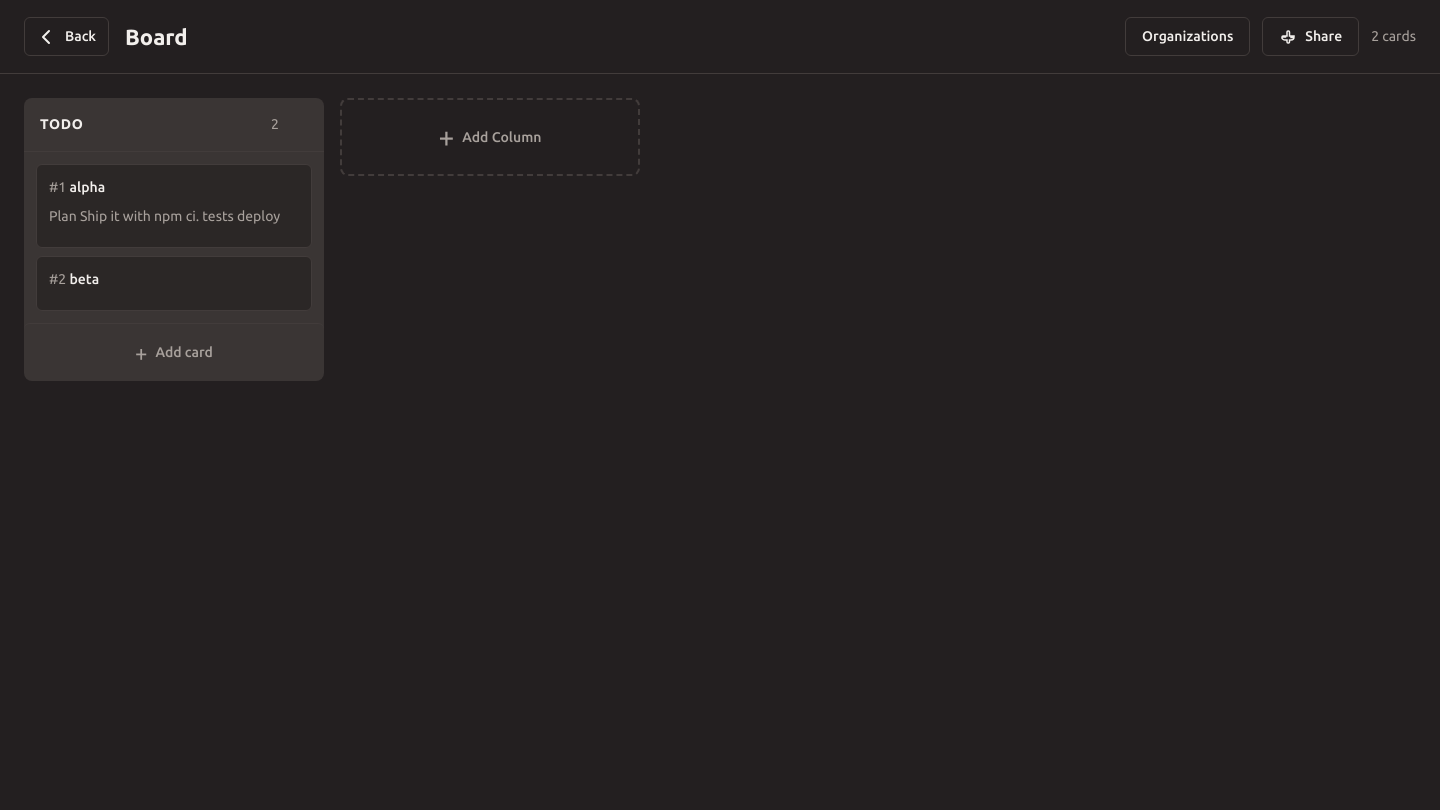
it: an open card › offers to add a description to a card without one
This screenshot has width=1440, height=810.
Click the button "#2 beta" at [58, 279], box [36,256,312,311]
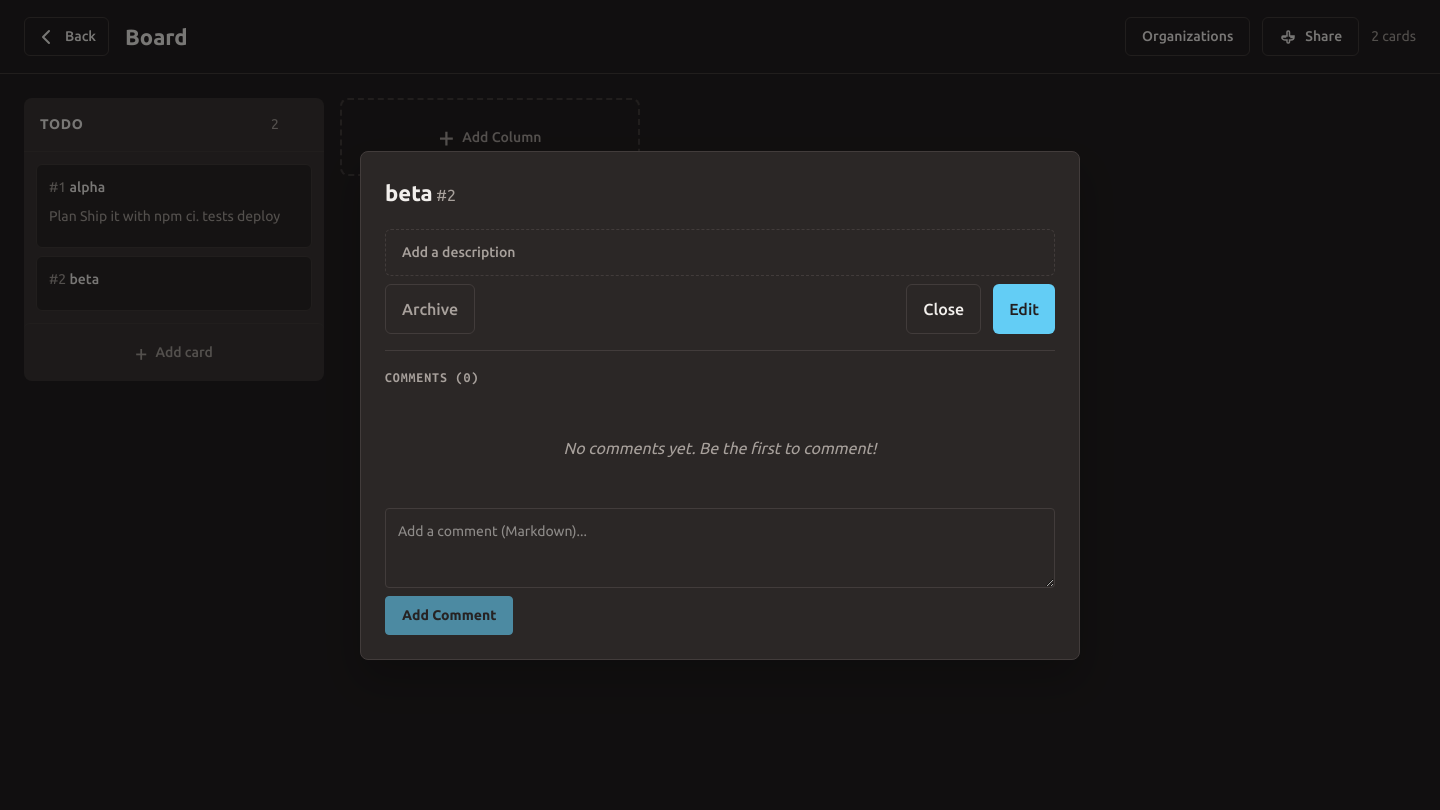
Click the button "Add a description" at [459, 252], box [385,228,1055,276]
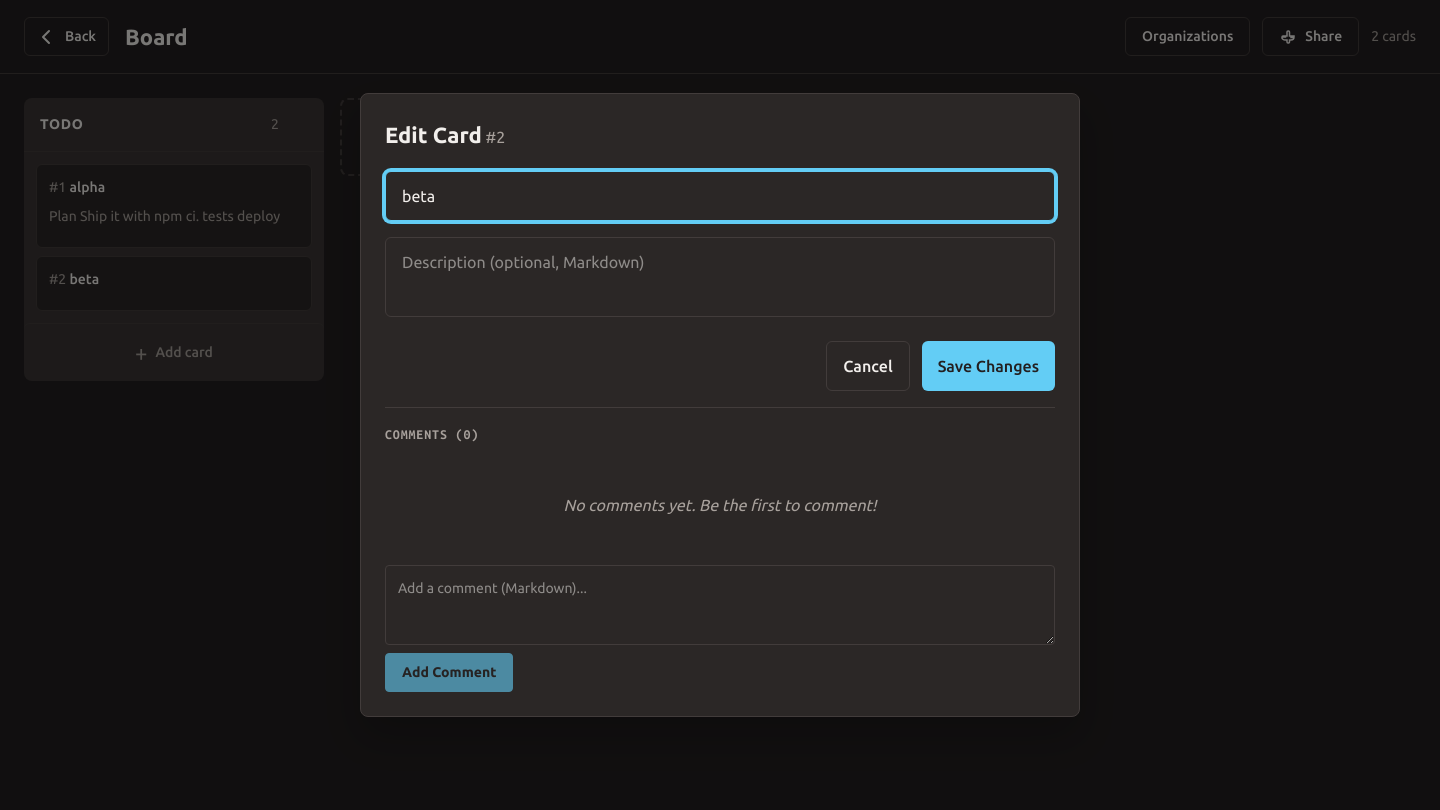
Now the text box labelled "Description" is empty, box [385,237,1055,317]
Now the field named "title" holds "beta", box [385,171,1055,221]
